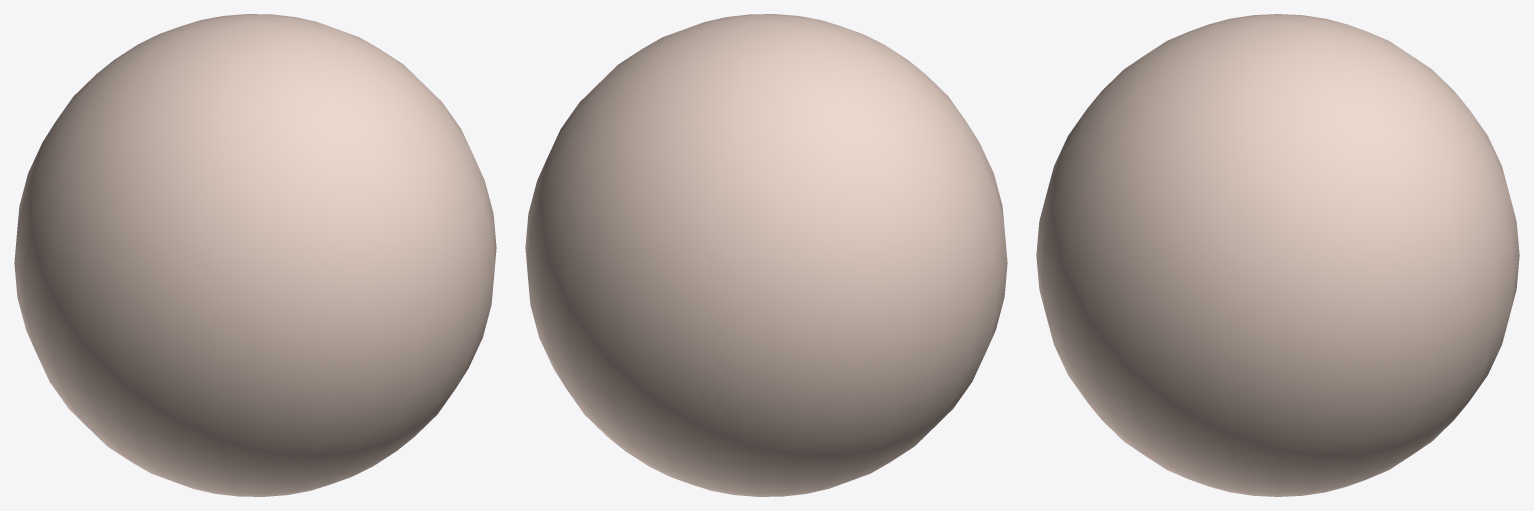
The model's file is _probe.glb.
3 renders of one model, left to right at view 1: azimuth 30°, elevation 25°; view 2: azimuth 150°, elevation 25°; view 3: azimuth 270°, elevation 25°, orthographic.
Visible parts, largest first — view 1: Head; view 2: Head; view 3: Head.
Boxes of the visible parts, box(x1,y1,x2,y2) form: Head: box(14, 14, 496, 496); Head: box(525, 14, 1007, 496); Head: box(1036, 14, 1519, 496).
Bounding box in the file's own units: 2 × 2 × 2.
